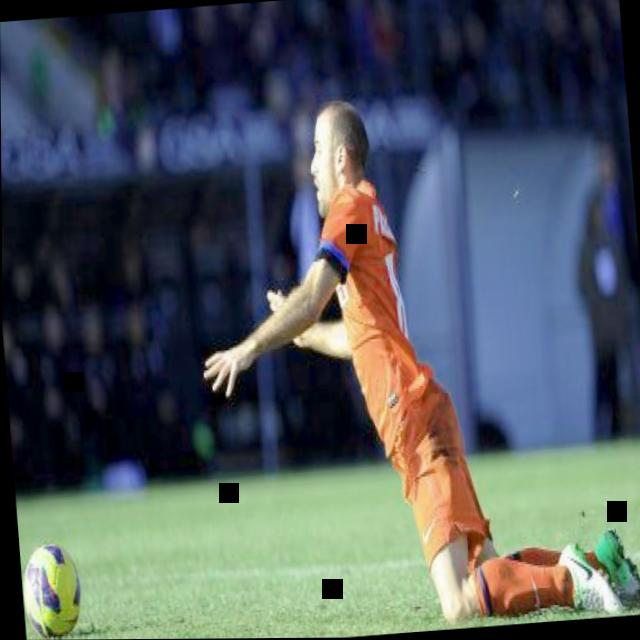Fall-Detected: (171, 90, 640, 621)
